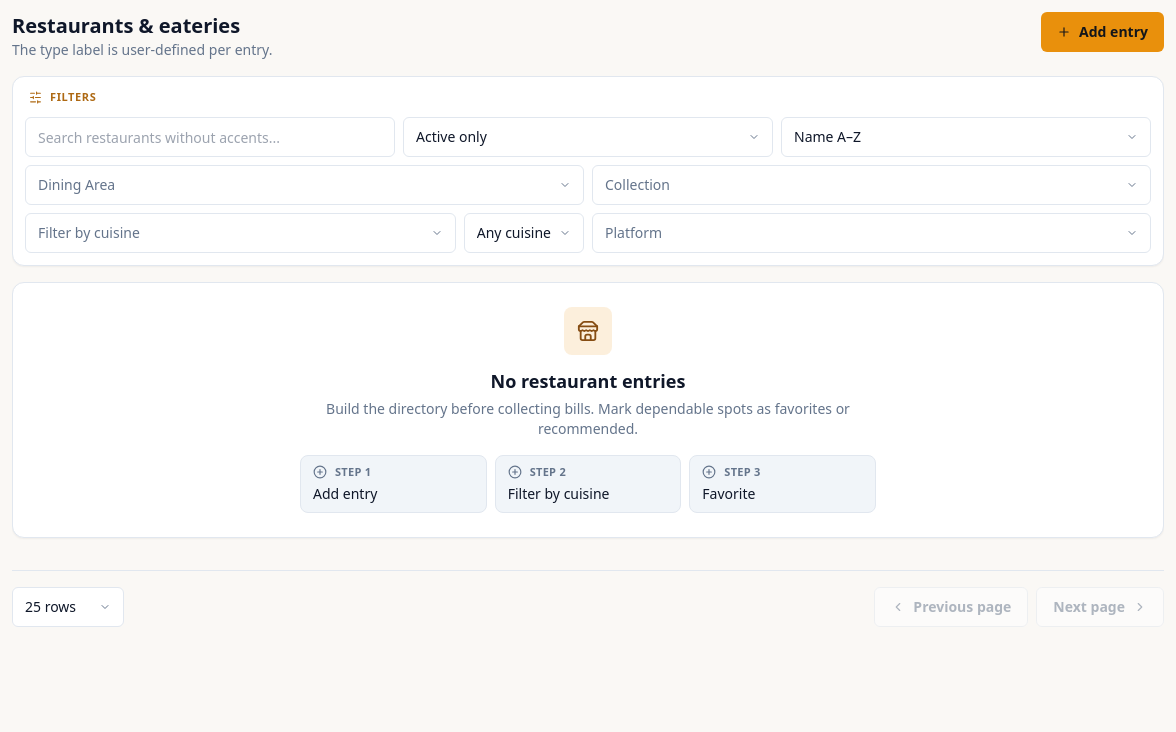
RestaurantsPage Cuisine filters › offers canonical Cuisines that are absent from the current restaurant page
Click the button "Filter by cuisine" at (89, 232), box [25,213,456,253]
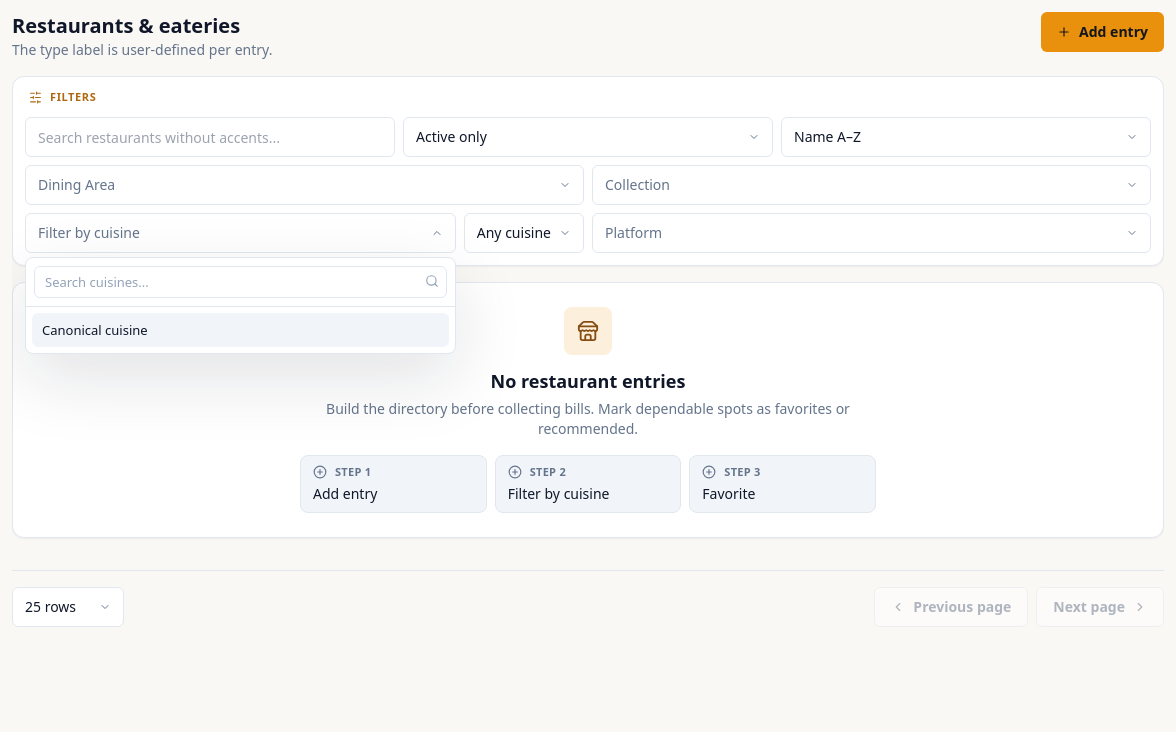
Now the option "Canonical cuisine" is shown, box [32,313,449,347]
